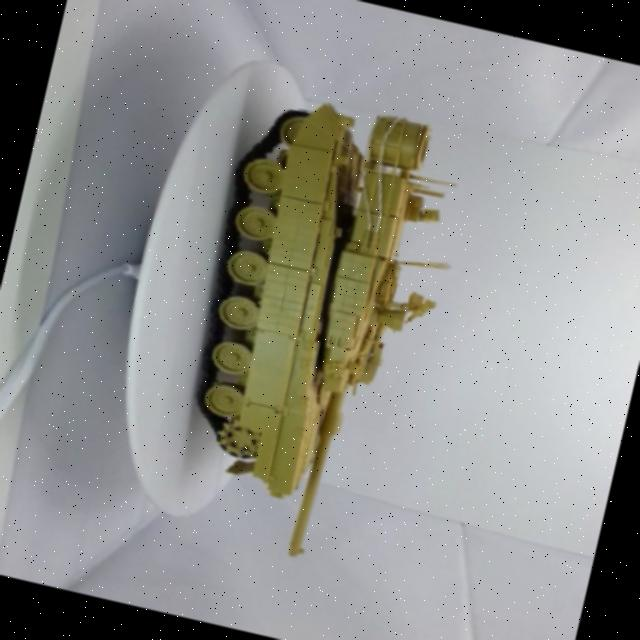korea tank: (134, 73, 496, 592)
